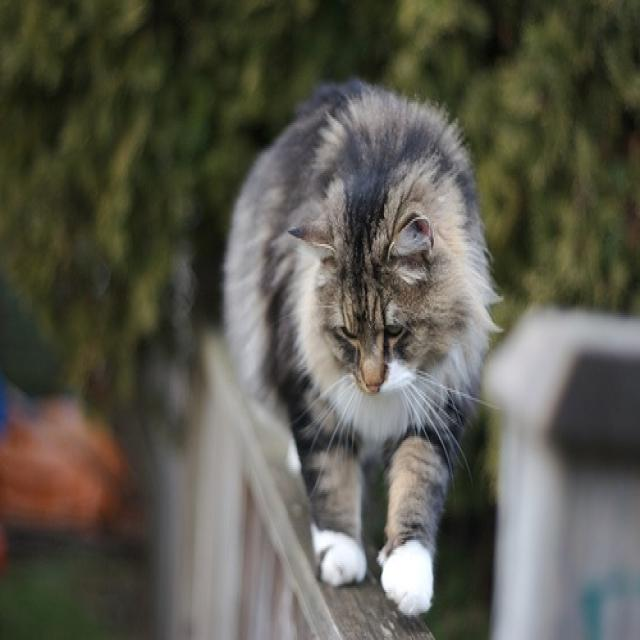cat: (219, 75, 508, 615)
